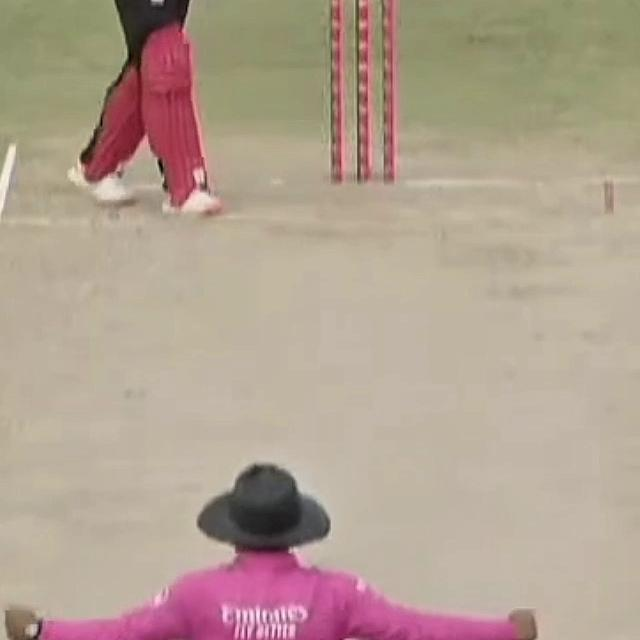umpire: (0, 425, 550, 640), (0, 440, 580, 640)
